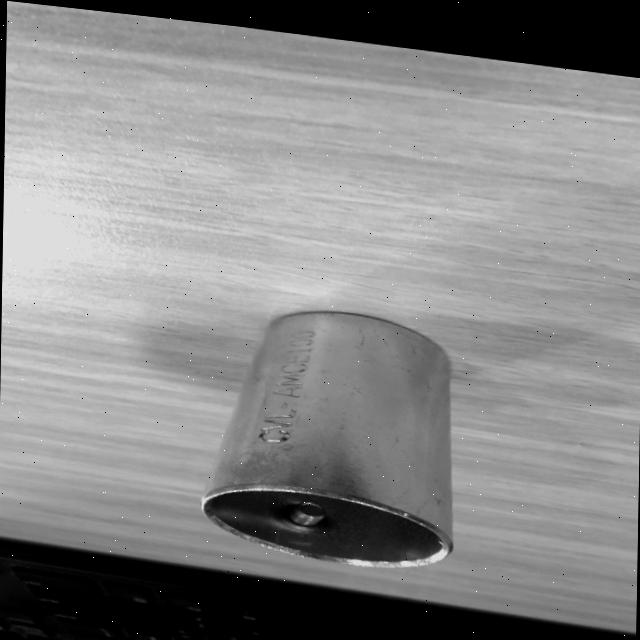Co_Nho: (193, 291, 491, 583)
